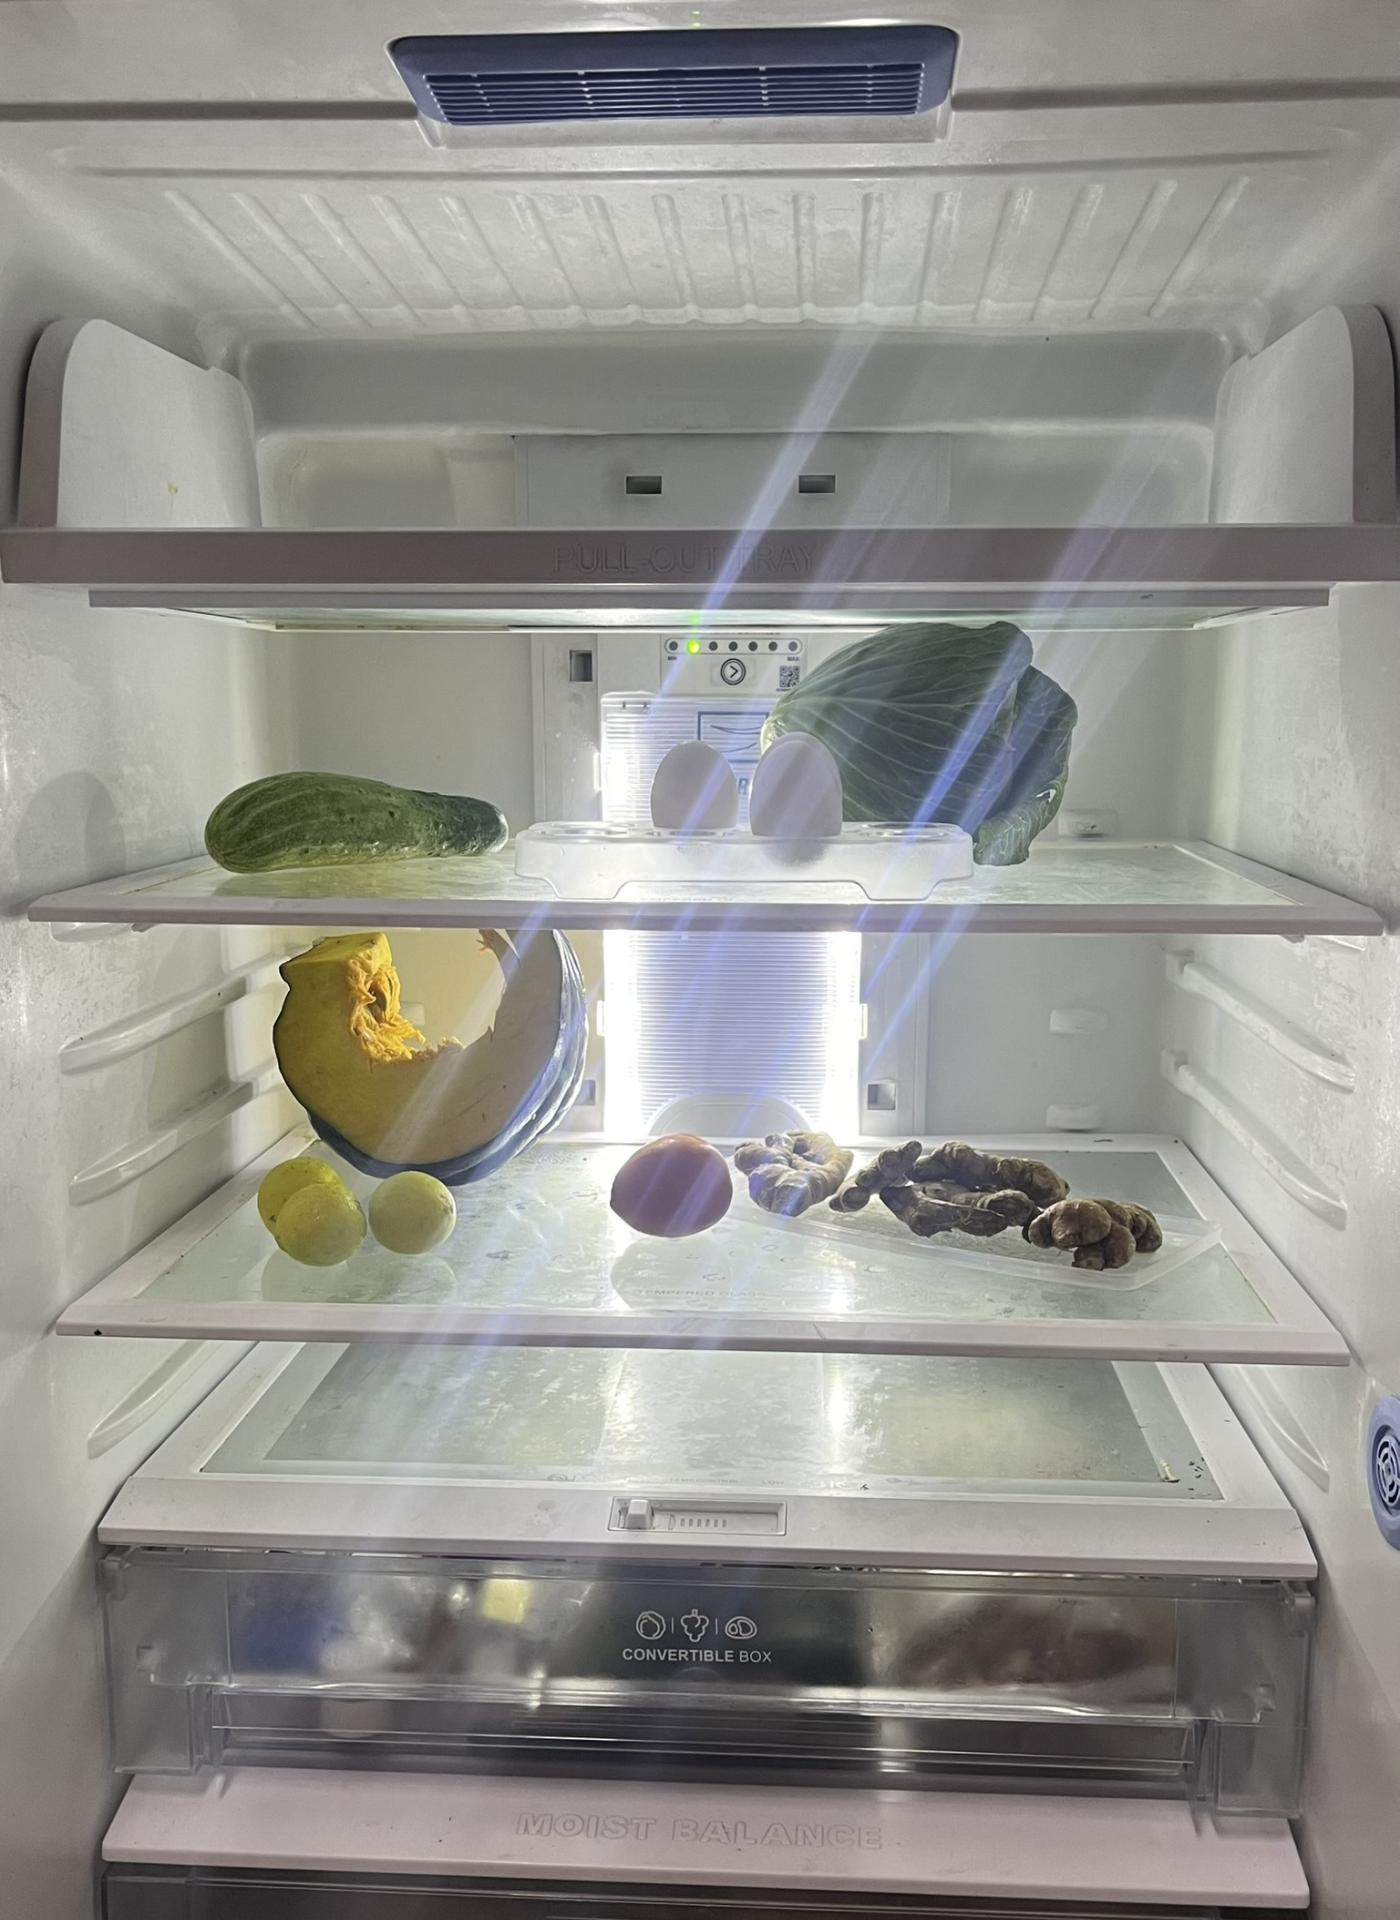cabbage: (747, 625, 1087, 851)
cucumber: (201, 772, 535, 878)
egg: (656, 738, 842, 863)
ginger: (722, 1124, 1160, 1266)
lemon: (255, 1155, 456, 1283)
pumpkin: (274, 924, 608, 1191)
tomato: (611, 1137, 735, 1246)
